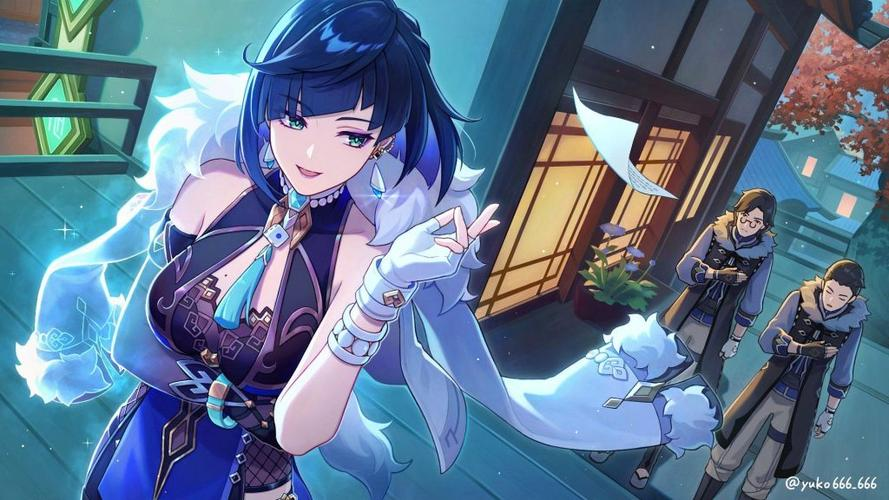夜兰: (73, 1, 500, 496)
